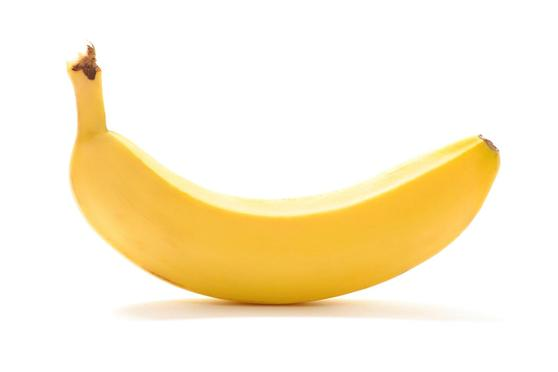banana: (71, 59, 498, 300)
